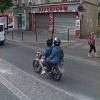Motorcycle: (24, 44, 66, 84)
